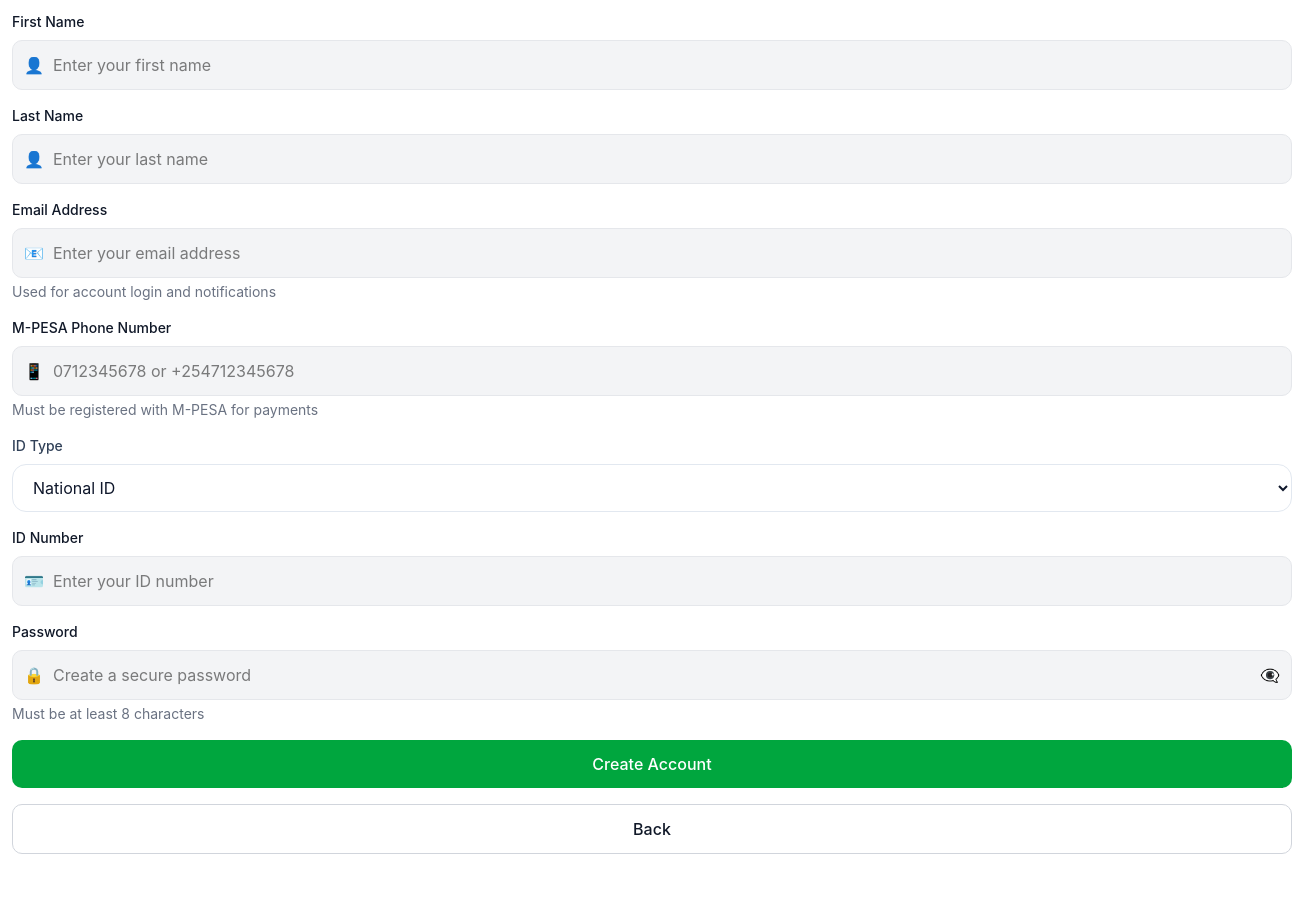
it: SignupForm › shows error when submitting empty form
The width and height of the screenshot is (1304, 912).
Click the button "Create Account" at (652, 764), box [12,740,1292,788]
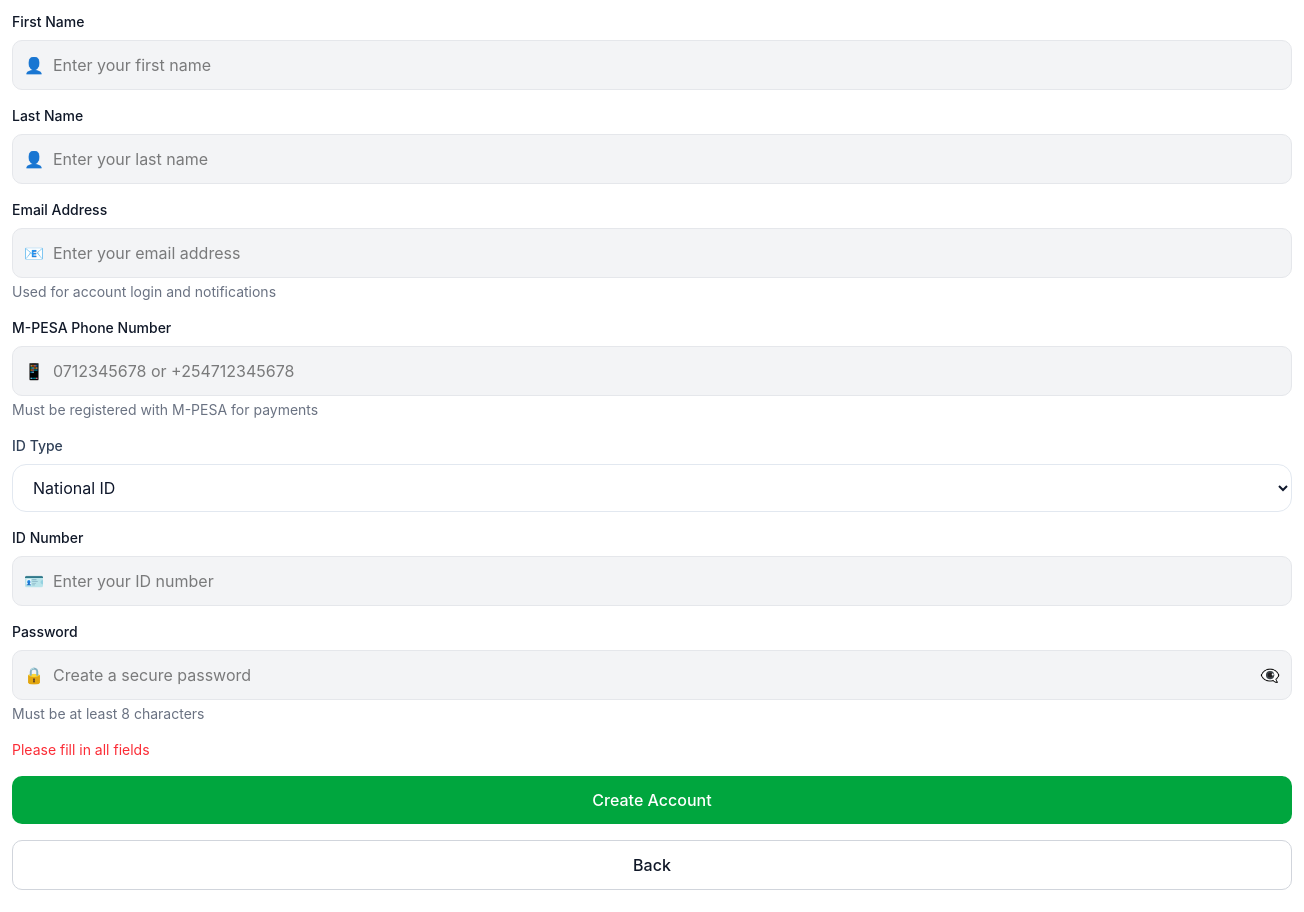
Expected: the text "Please fill in all fields" is shown, [12,741,150,758]
